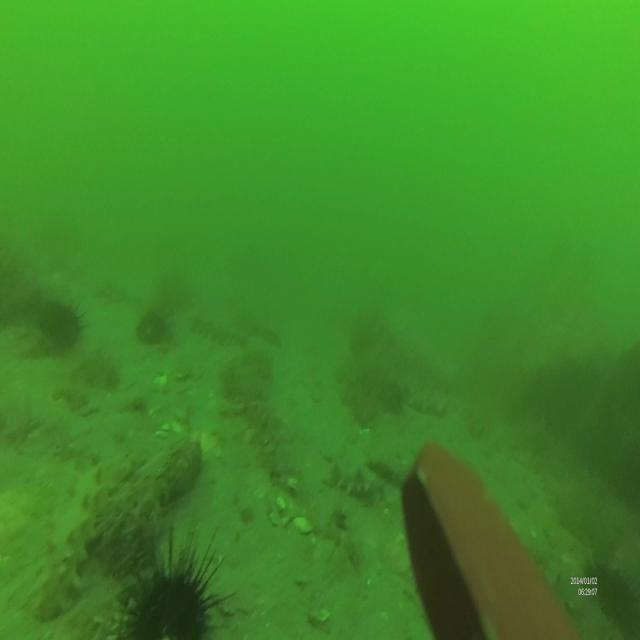echinus: (109, 543, 227, 640), (34, 294, 82, 354), (131, 306, 169, 346)
holothurian: (38, 453, 98, 615), (323, 459, 378, 496), (185, 319, 245, 346), (401, 386, 448, 420)
